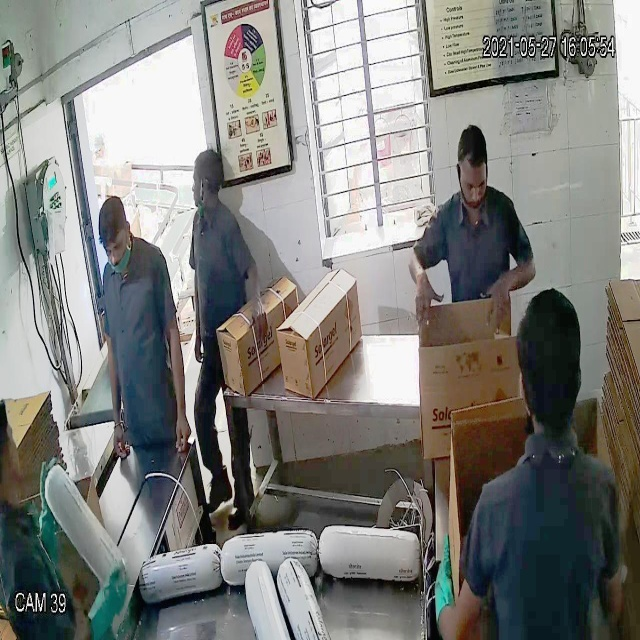Sin_gafas: (96, 232, 139, 268), (454, 165, 492, 204)
